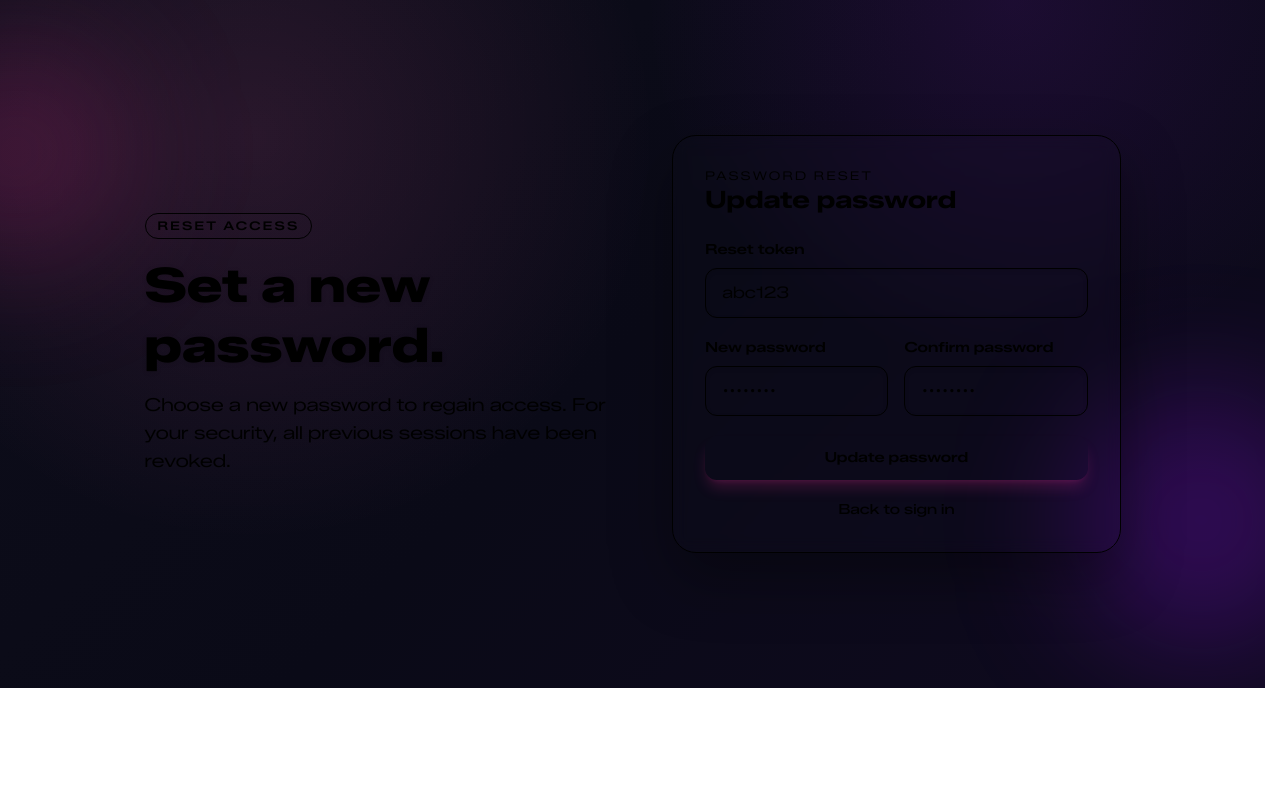
Test: ResetPassword › submits reset with token and new password
This screenshot has width=1280, height=800.
In the password field labelled "New password": [797, 391] box [705,366,888,416], type "password123"
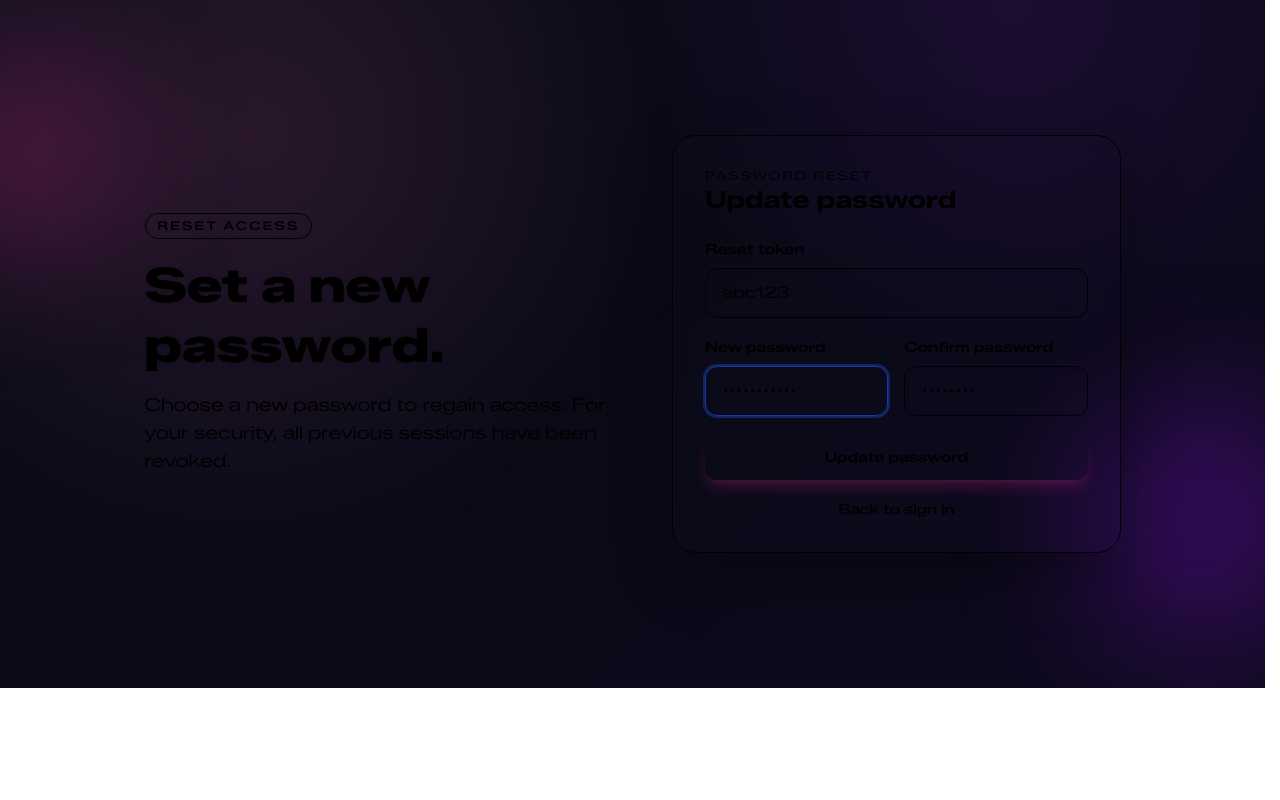
In the password field labelled "Confirm password": [996, 391] box [904,366,1088,416], type "password123"
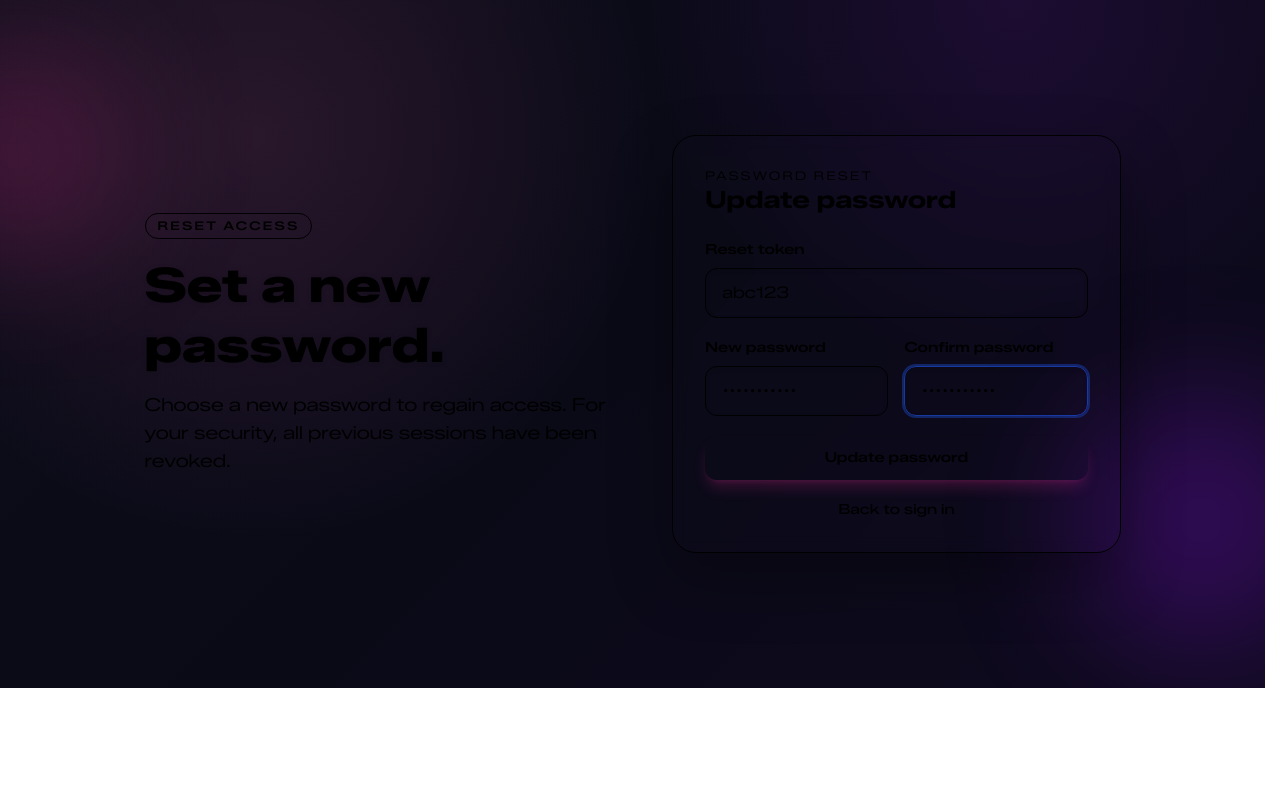
Click the button "Update password": [896, 458] box [705,436,1088,480]
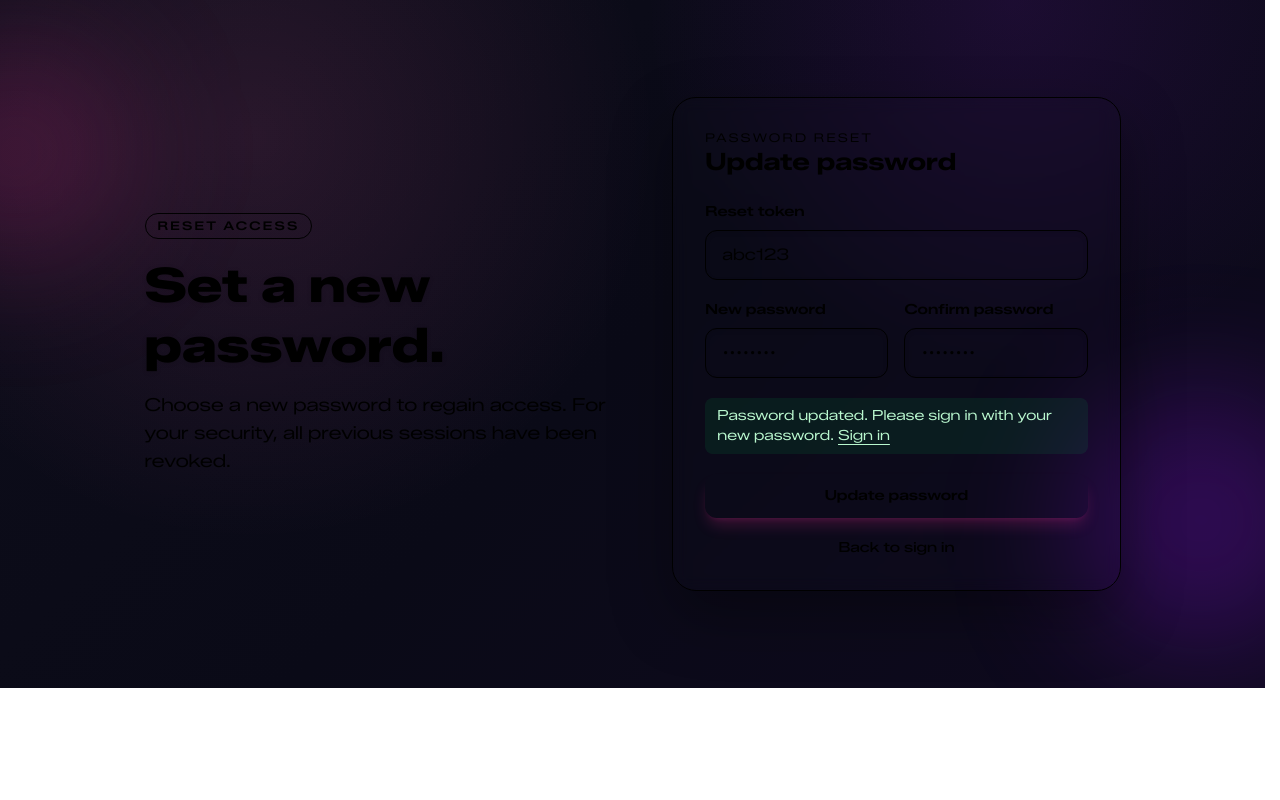
Now the text "Password updated. Please sign in with your new password. Sign in" is shown, box [705,398,1088,454]
